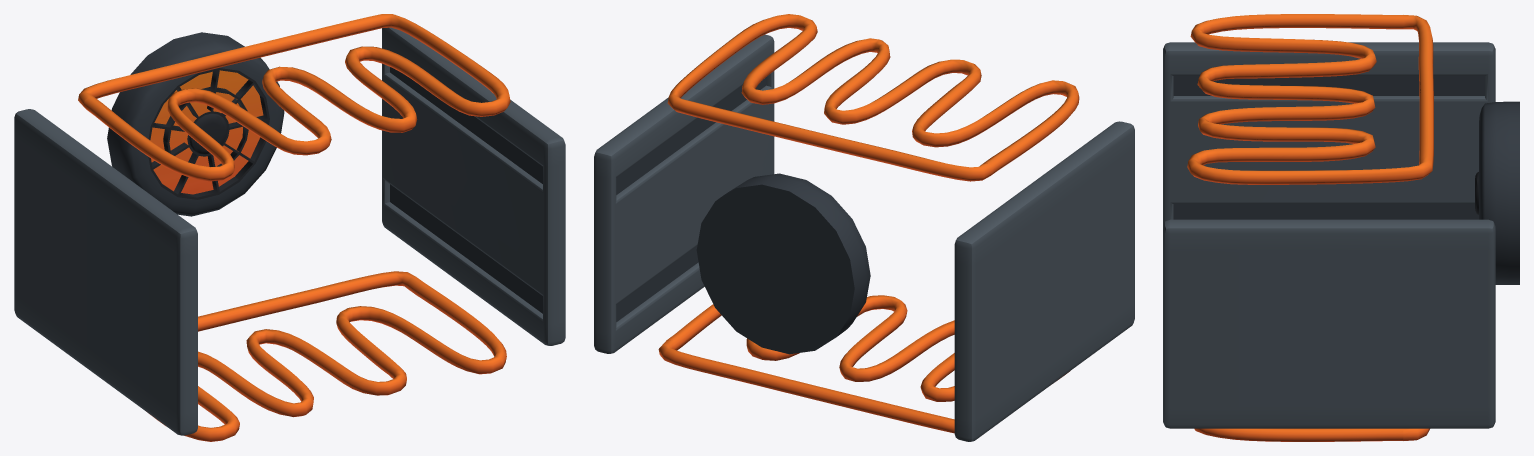
File: oven-cpi.fbx
3 renders of one model, left to right at view 1: azimuth 30°, elevation 25°; view 2: azimuth 150°, elevation 25°; view 3: azimuth 270°, elevation 25°, orthographic.
Parts seen in each view (by area): view 1: polySurface4, polySurface7, extrudedSurface3, pCylinder1, extrudedSurface4; view 2: polySurface4, polySurface7, pCylinder1, extrudedSurface3, extrudedSurface4; view 3: polySurface7, polySurface4, extrudedSurface3, pCylinder1, extrudedSurface4.
Boxes of the visible parts, x1,y1,x2,y2 form: polySurface4: (14, 109, 197, 435); polySurface7: (382, 27, 565, 345); extrudedSurface3: (78, 14, 510, 181); pCylinder1: (107, 32, 284, 216); extrudedSurface4: (151, 271, 506, 441); polySurface4: (954, 121, 1134, 441); polySurface7: (594, 34, 774, 353); pCylinder1: (696, 173, 870, 354); extrudedSurface3: (667, 14, 1079, 181); extrudedSurface4: (658, 295, 1069, 433); polySurface7: (1163, 219, 1495, 428); polySurface4: (1163, 42, 1495, 225); extrudedSurface3: (1187, 14, 1433, 184); pCylinder1: (1475, 101, 1519, 284); extrudedSurface4: (1194, 428, 1429, 441).
Bounding box in the file's own units: 377 × 253 × 303.
Materials: 1 (1 with a texture image).
